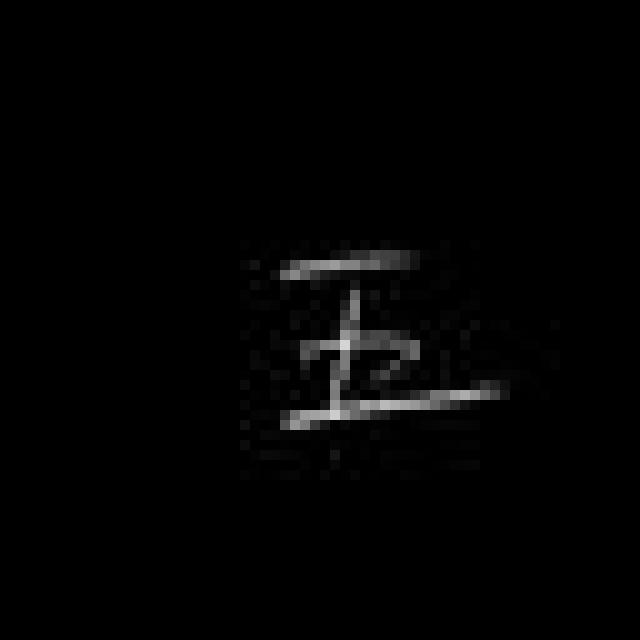5 -five-: (271, 243, 503, 444)
